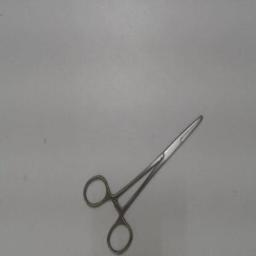Mayo Needle Holder: (78, 108, 208, 256)
